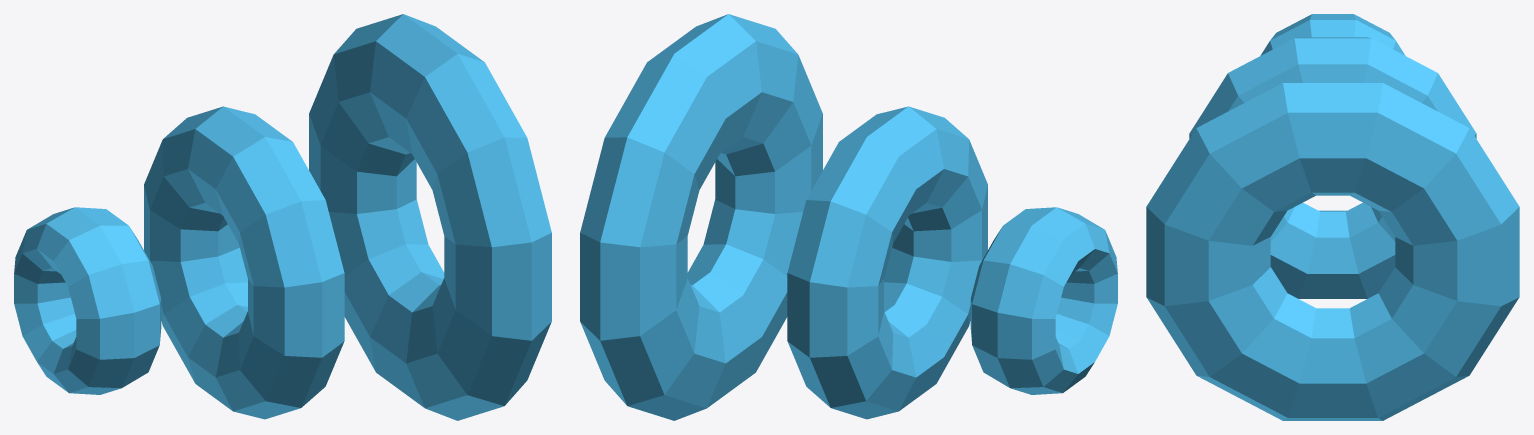
The model's file is echo_chamber.glb.
The picture shows the model from 3 angles, left to right: view 1: azimuth 30°, elevation 25°; view 2: azimuth 150°, elevation 25°; view 3: azimuth 270°, elevation 25°; orthographic projection. The views are drawn at different scales.
Parts seen in each view (by area): view 1: torus (×3); view 2: torus (×3); view 3: torus (×3).
Part boxes in pixels (x1=…): torus (×3): x1=14, y1=14, x2=551, y2=420; torus (×3): x1=580, y1=14, x2=1117, y2=420; torus (×3): x1=1146, y1=14, x2=1519, y2=420.
Bounding box in the file's own units: 0.9901 × 0.8125 × 0.8125.
Materials: 1 (1 with a texture image).
